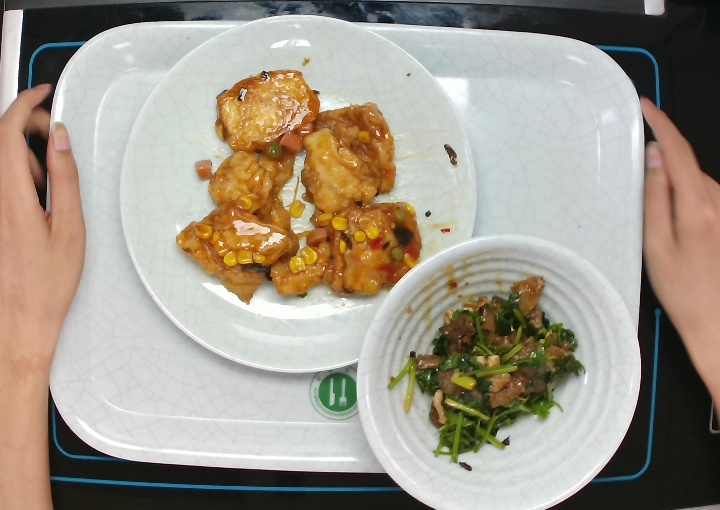JYsf-Da_Yuan_Pan: (113, 10, 480, 378)
JYsf-Xiao_Tang_Wan: (349, 231, 655, 510)
